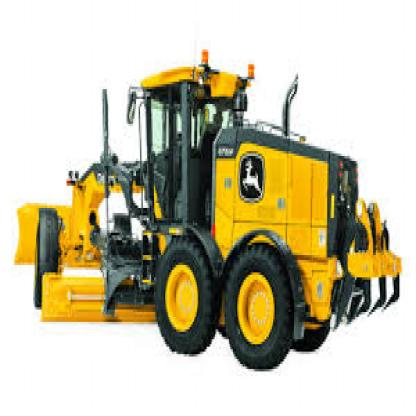bull_dozer/loader/grader: (14, 47, 405, 371)
